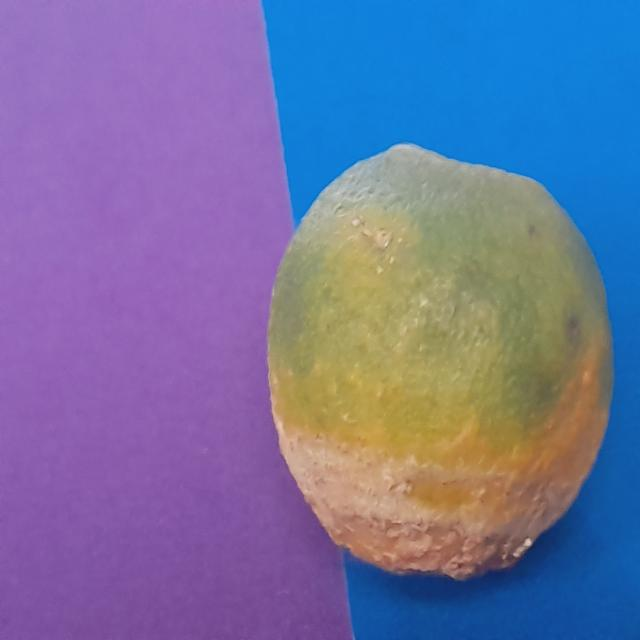thrips: (250, 145, 619, 585)
